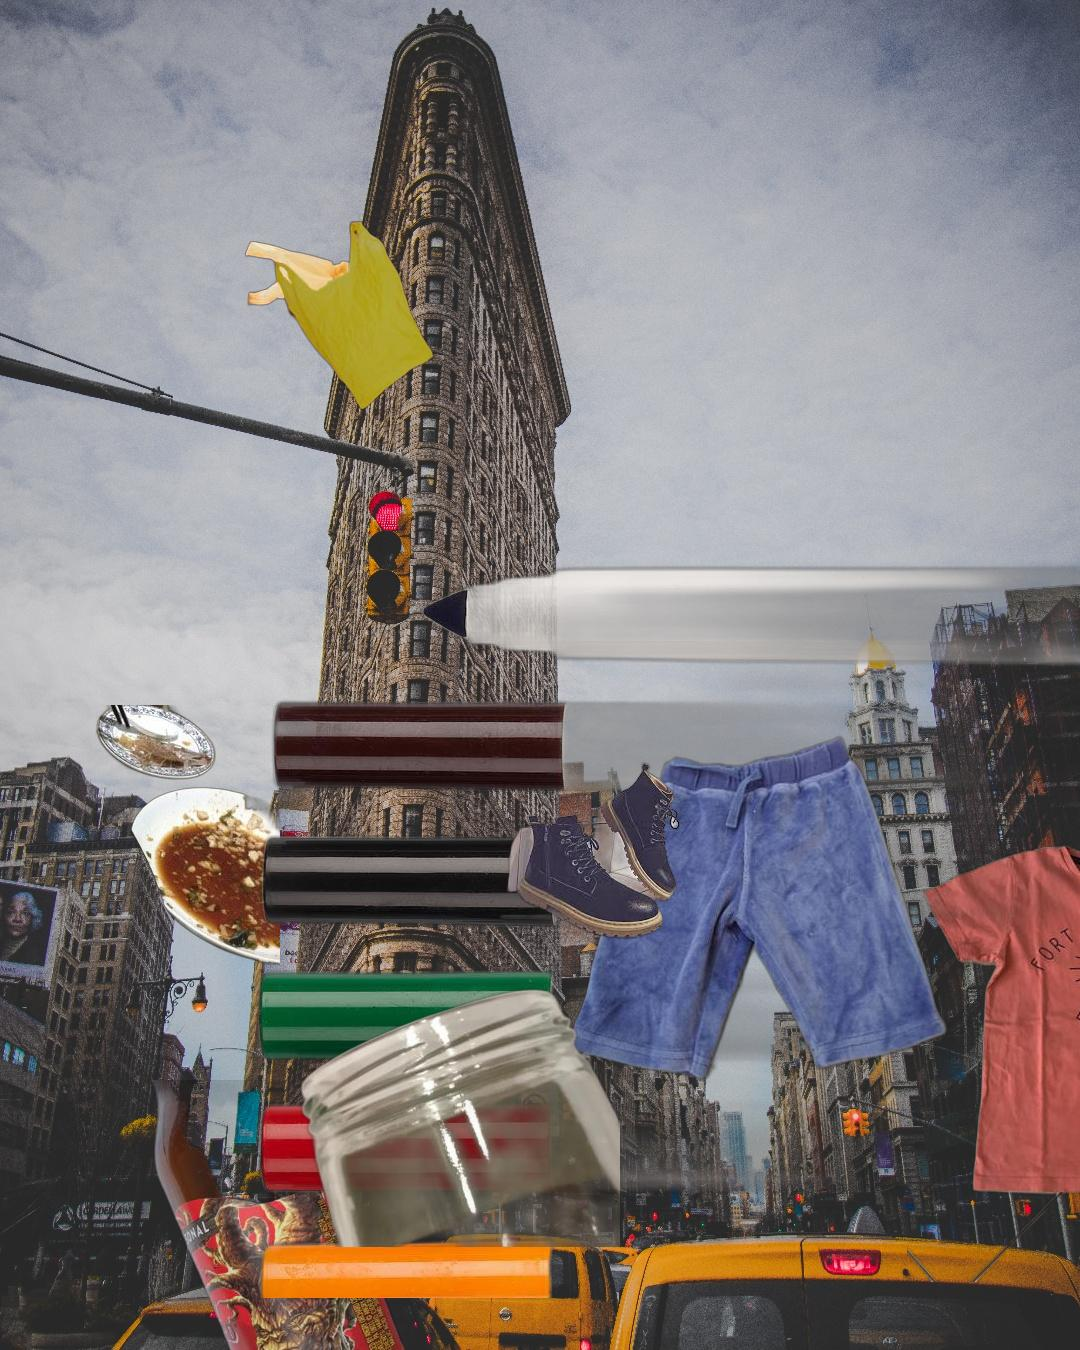biological: (95, 705, 280, 966)
clothes: (564, 733, 952, 1086), (907, 749, 1080, 1282)
glass: (295, 986, 620, 1248), (145, 1080, 414, 1350)
penholder: (199, 529, 1080, 1298)
plastic-bag: (242, 218, 438, 412)
shoes: (494, 757, 682, 942)
